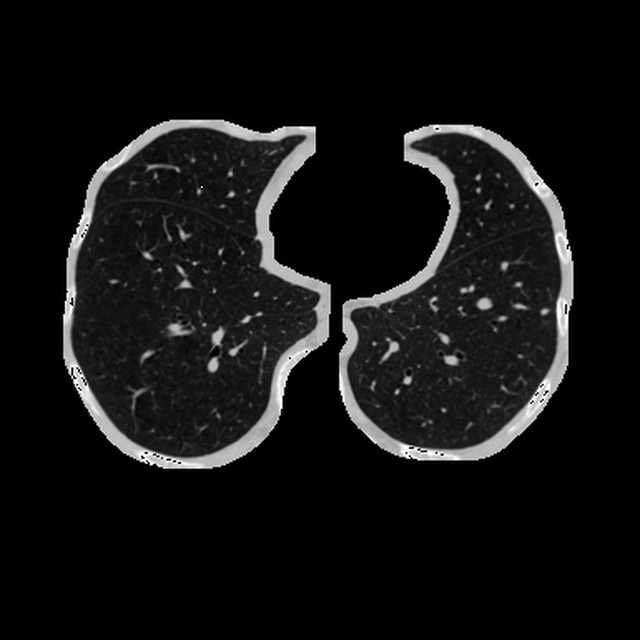PN: (540, 308, 547, 314)
